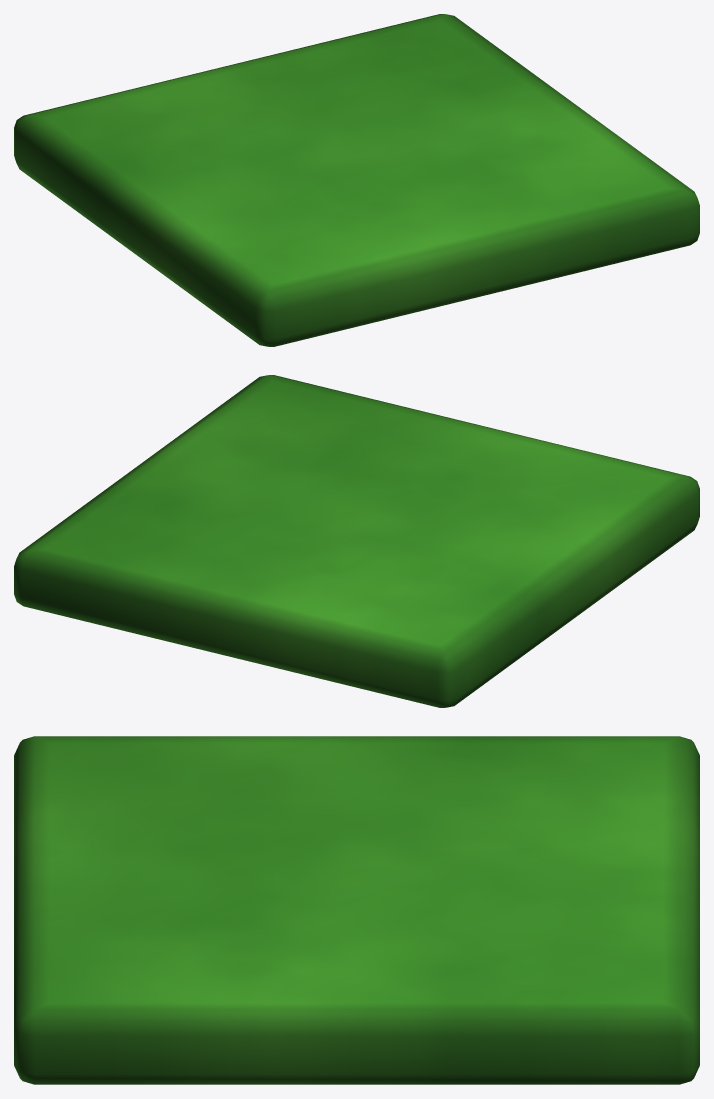
The model's file is floor.glb.
The picture shows the model from 3 angles, top to bottom: view 1: azimuth 30°, elevation 25°; view 2: azimuth 150°, elevation 25°; view 3: azimuth 270°, elevation 25°; orthographic projection. The views are drawn at different scales.
Parts seen in each view (by area): view 1: floor; view 2: floor; view 3: floor.
Boxes of the visible parts, x1,y1,x2,y2 form: floor: (14, 14, 699, 346); floor: (14, 375, 699, 707); floor: (14, 736, 699, 1084).
Bounding box in the file's own units: 1 × 0.12 × 1.
Materials: 1 (1 with a texture image).
